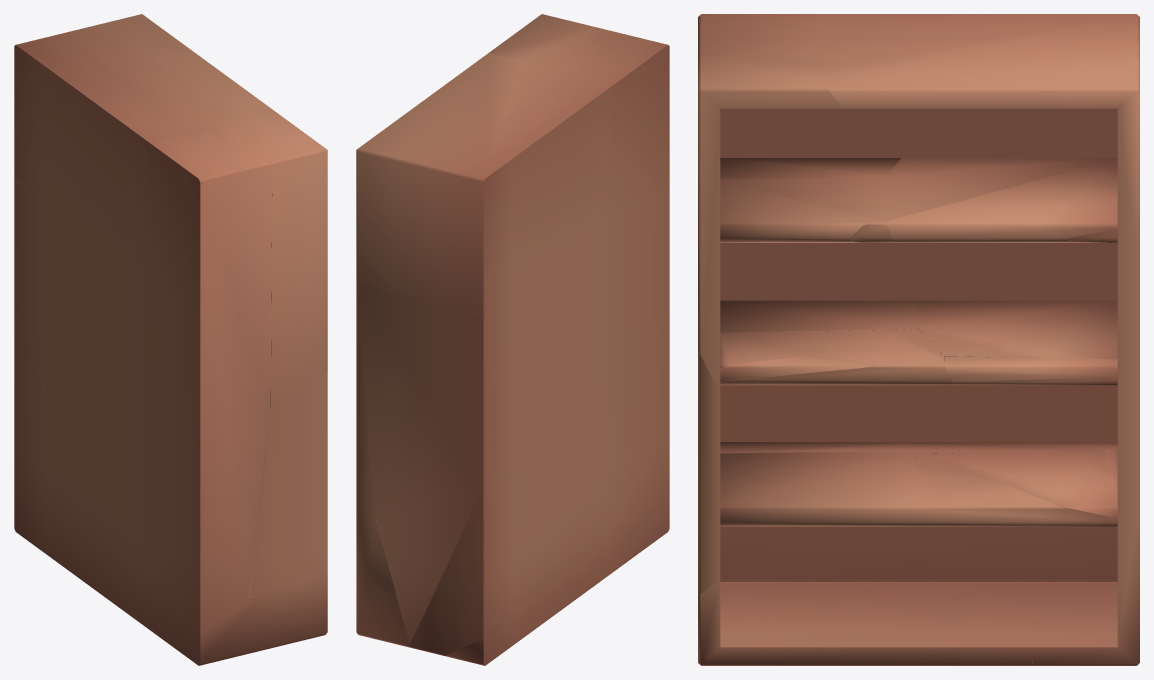
Rendered from BookShelves2.fbx.
3 renders of one model, left to right at view 1: azimuth 30°, elevation 25°; view 2: azimuth 150°, elevation 25°; view 3: azimuth 270°, elevation 25°, orthographic. The views are drawn at different scales.
Visible parts, largest first — view 1: BookShelves2.001_cell.005, BookShelves2.001_cell.003, BookShelves2.001_cell.010, BookShelves2.001_cell.009, BookShelves2.001_cell.002, BookShelves2.001_cell.004, BookShelves2.001_cell.001, BookShelves2.001_cell.008, BookShelves2.001_cell.007; view 2: BookShelves2.001_cell.010, BookShelves2.001_cell.003, BookShelves2.001_cell.008, BookShelves2.001_cell.005, BookShelves2.001_cell.001, BookShelves2.001_cell.002, BookShelves2.001_cell.006, BookShelves2.001_cell.009, BookShelves2.001_cell.007; view 3: BookShelves2.001_cell.002, BookShelves2.001_cell.003, BookShelves2.001_cell.010, BookShelves2.001_cell.005, BookShelves2.002_cell.007, BookShelves2.001_cell.001, BookShelves2.002_cell.002, BookShelves2.001_cell.009, BookShelves2.002_cell.010, BookShelves2.001_cell.008, BookShelves2.002_cell.011, BookShelves2.002_cell.004 (+13 smaller).
Part boxes in pixels (bbox=[...]): BookShelves2.001_cell.005: bbox=[145, 124, 272, 634]; BookShelves2.001_cell.003: bbox=[38, 125, 193, 548]; BookShelves2.001_cell.010: bbox=[14, 14, 271, 190]; BookShelves2.001_cell.009: bbox=[210, 109, 327, 407]; BookShelves2.001_cell.002: bbox=[90, 502, 327, 665]; BookShelves2.001_cell.004: bbox=[249, 370, 327, 597]; BookShelves2.001_cell.001: bbox=[14, 351, 94, 566]; BookShelves2.001_cell.008: bbox=[14, 180, 38, 371]; BookShelves2.001_cell.007: bbox=[14, 502, 90, 586]; BookShelves2.001_cell.010: bbox=[356, 53, 595, 316]; BookShelves2.001_cell.003: bbox=[507, 73, 625, 519]; BookShelves2.001_cell.008: bbox=[356, 281, 507, 518]; BookShelves2.001_cell.005: bbox=[551, 27, 669, 498]; BookShelves2.001_cell.001: bbox=[376, 473, 564, 655]; BookShelves2.001_cell.002: bbox=[559, 478, 669, 610]; BookShelves2.001_cell.006: bbox=[356, 512, 411, 647]; BookShelves2.001_cell.009: bbox=[489, 14, 595, 67]; BookShelves2.001_cell.007: bbox=[445, 593, 559, 665]; BookShelves2.001_cell.002: bbox=[698, 526, 1035, 665]; BookShelves2.001_cell.003: bbox=[808, 14, 1066, 441]; BookShelves2.001_cell.010: bbox=[828, 14, 1139, 246]; BookShelves2.001_cell.005: bbox=[698, 14, 833, 540]; BookShelves2.002_cell.007: bbox=[886, 158, 1117, 242]; BookShelves2.001_cell.001: bbox=[967, 400, 1117, 620]; BookShelves2.002_cell.002: bbox=[720, 450, 920, 526]; BookShelves2.001_cell.009: bbox=[698, 51, 842, 392]; BookShelves2.002_cell.010: bbox=[916, 300, 1117, 359]; BookShelves2.001_cell.008: bbox=[1066, 242, 1139, 523]; BookShelves2.002_cell.011: bbox=[720, 177, 885, 242]; BookShelves2.002_cell.004: bbox=[914, 453, 1117, 526].
Bounding box in the file's own units: 1.53 × 0.6103 × 2.21.
